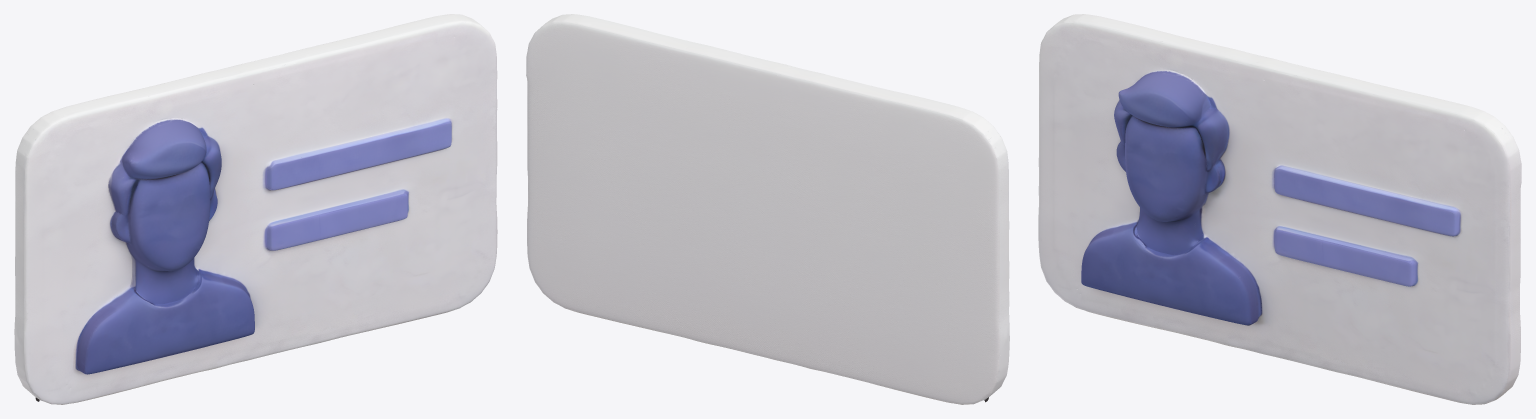
File: student_card_shaded.glb
3 views of the same model, side by side, from view 1: azimuth 30°, elevation 25°; view 2: azimuth 150°, elevation 25°; view 3: azimuth 330°, elevation 25° (orthographic).
Parts seen in each view (by area): view 1: model; view 2: model; view 3: model.
Boxes of the visible parts, box(x1,y1,x2,y2) form: model: box(14, 14, 497, 404); model: box(526, 14, 1009, 404); model: box(1038, 14, 1521, 404).
Size of the model in its own units: 1.9 by 1.11 by 0.2114.
Materials: 1 (1 with a texture image).
